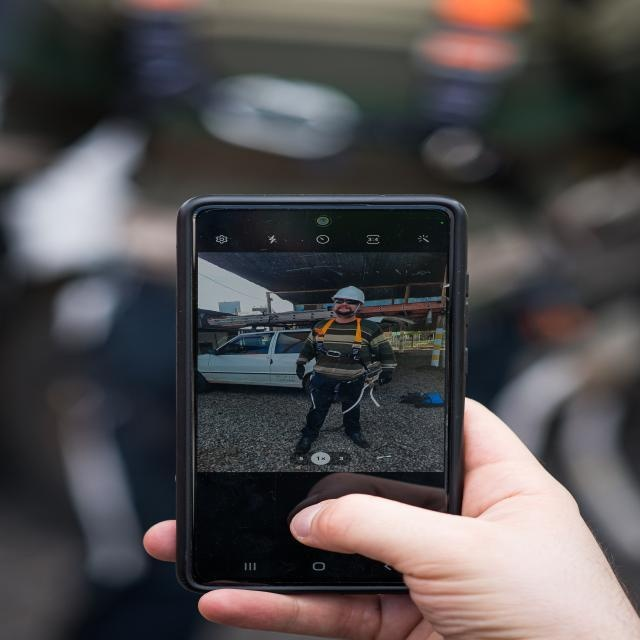Arnes_seguridad: (299, 312, 379, 416)
